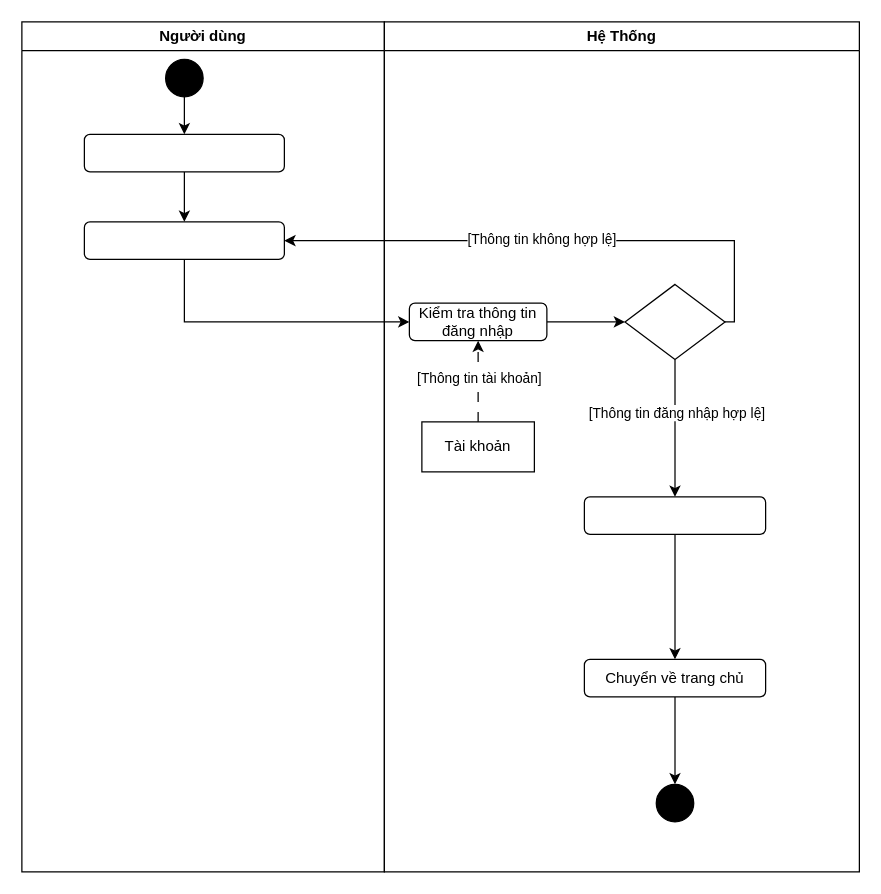
Some shapes in this 881 by 894 pixel diagram are drawn without their labels. Each missing label, with the centre of its shape:
Chọn đăng nhập: (x=183, y=152)
Nhập Username, Password: (x=183, y=240)
Thông báo đăng nhập thành công: (x=674, y=515)
